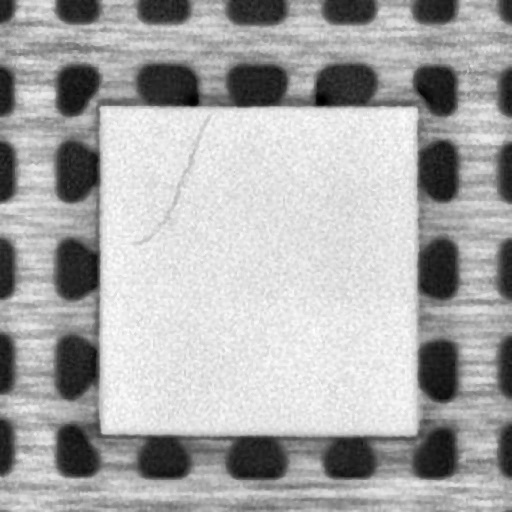DIE_CRACK: (132, 113, 208, 243)
